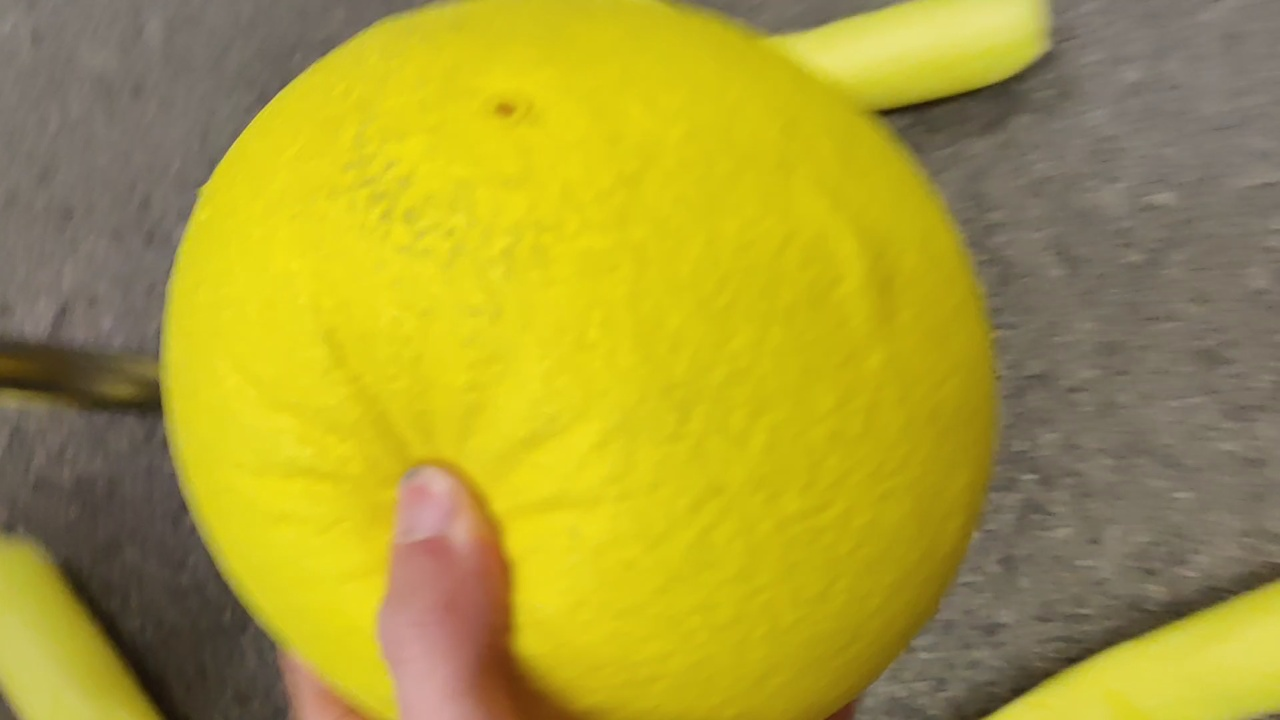Ball: (155, 17, 1011, 720)
